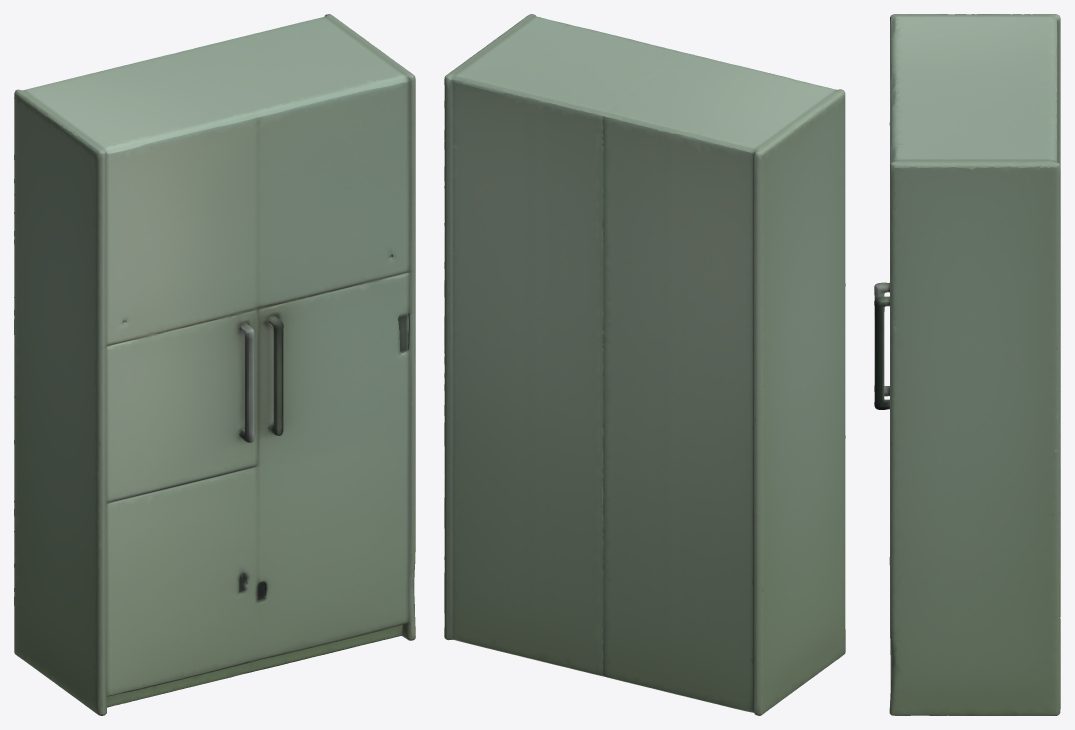
File: item_bbb5c8ae.glb
The picture shows the model from 3 angles, left to right: view 1: azimuth 30°, elevation 25°; view 2: azimuth 150°, elevation 25°; view 3: azimuth 270°, elevation 25°; orthographic projection. The views are drawn at different scales.
Parts seen in each view (by area): view 1: world; view 2: world; view 3: world.
Part boxes in pixels (<box>): world: <box>14,14,415,715</box>; world: <box>444,14,845,715</box>; world: <box>874,14,1060,715</box>.
Size of the model in its own units: 1.18 by 2 by 0.6118.
Materials: 1 (1 with a texture image).
